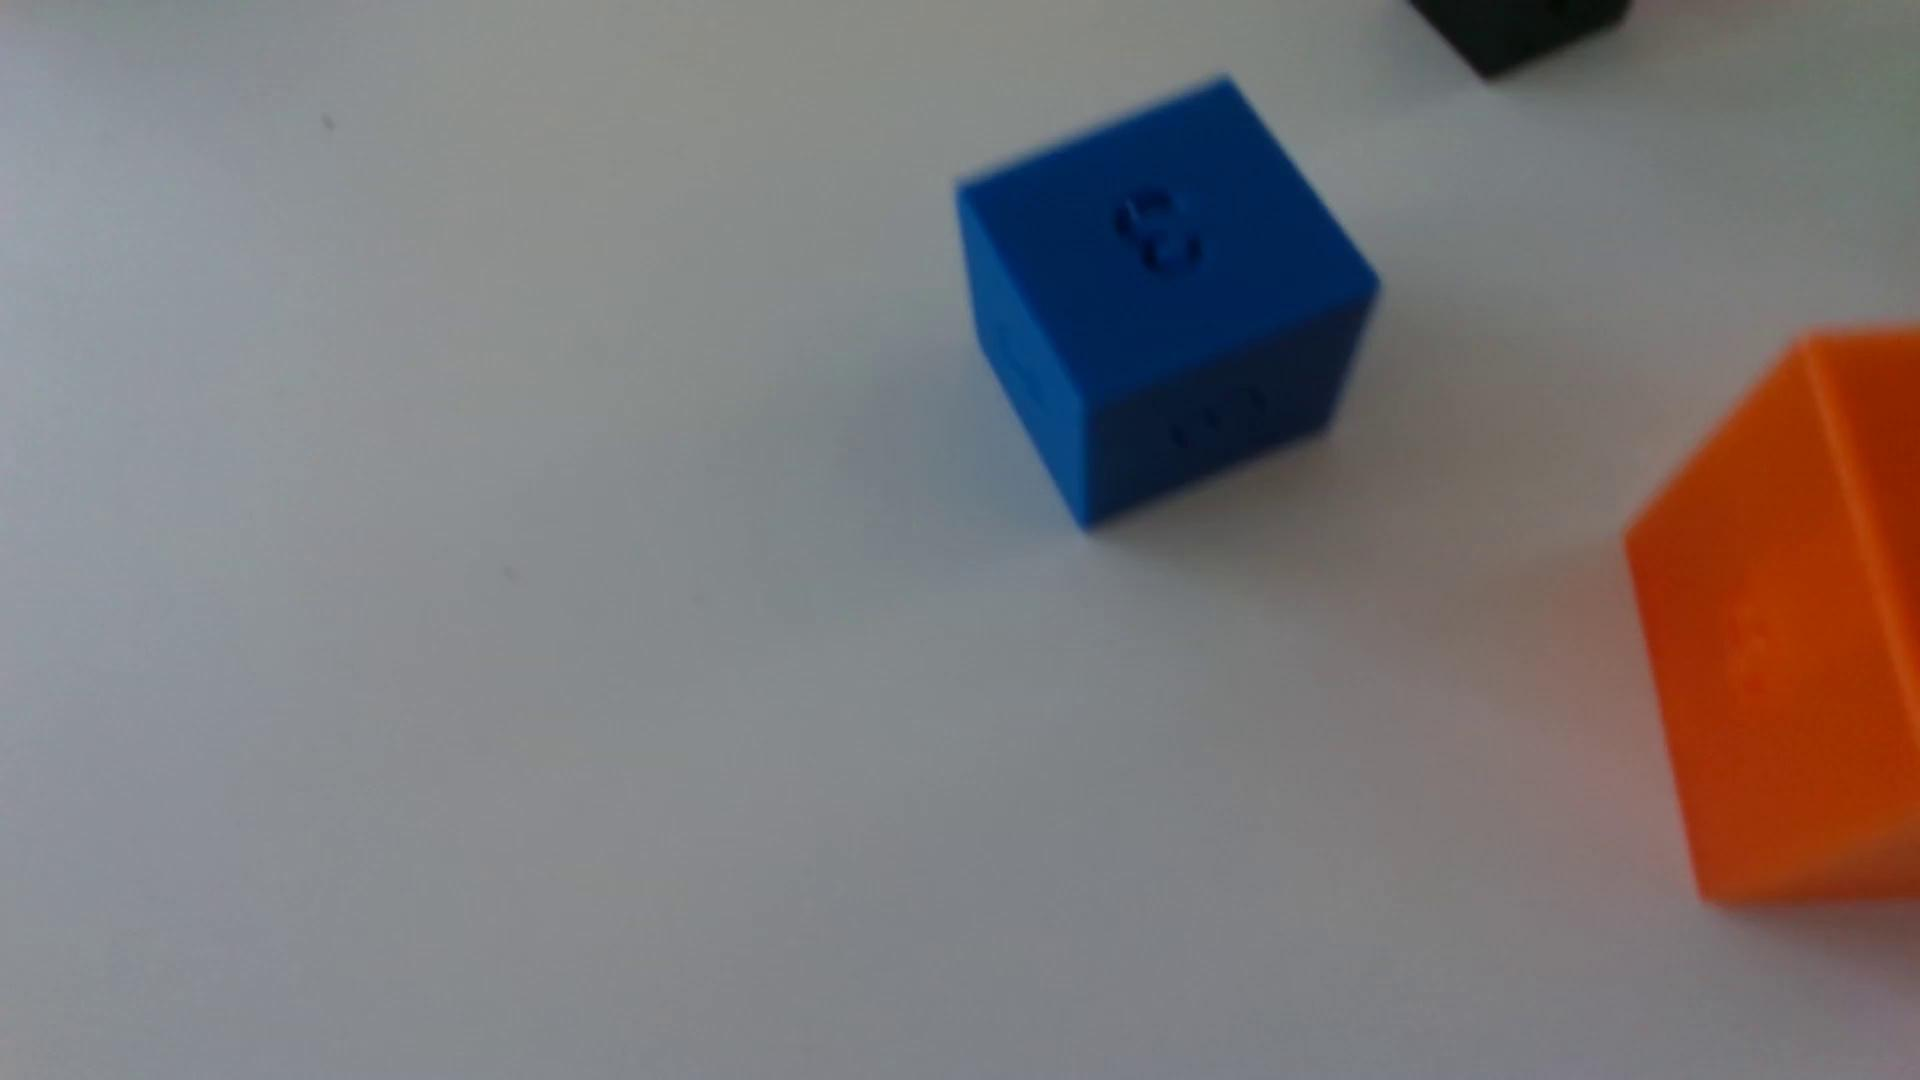black: (1408, 0, 1633, 80)
blue: (959, 73, 1382, 521)
orange: (1625, 327, 1920, 909)
